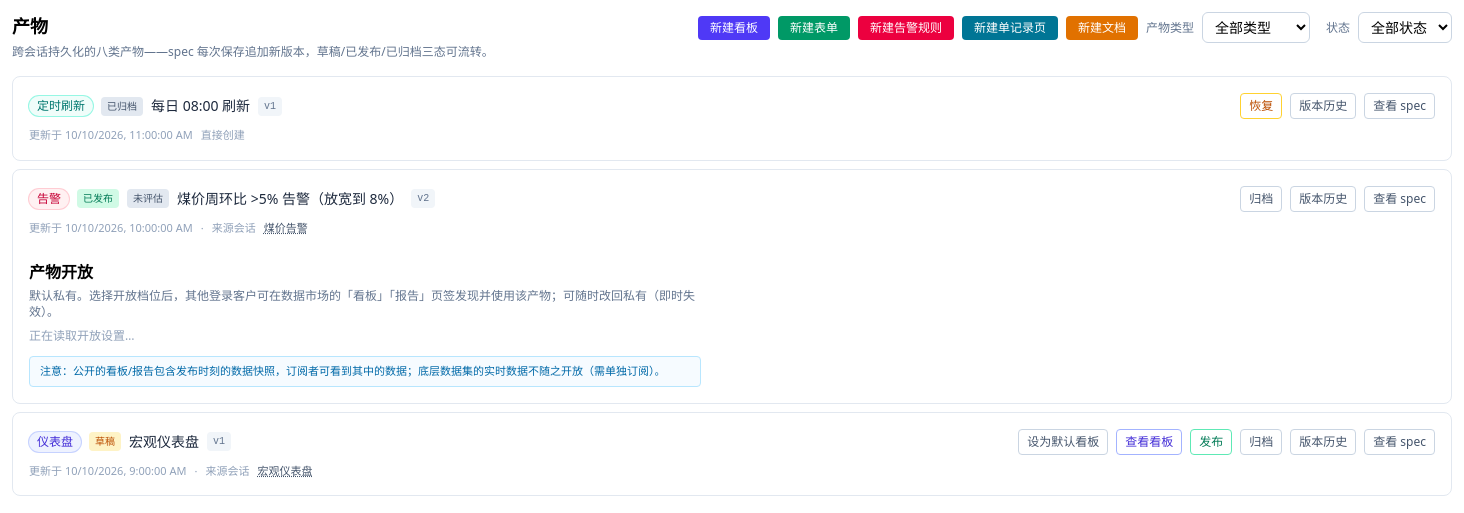
Test case: ArtifactsPage（产物列表：持久化 + 版本 + 状态机） › kind 与 status 筛选收窄列表
Expected: the number of list items with test id "artifact-item" is 3, [12,76,1452,160]; [12,168,1452,404]; [12,412,1452,496]
Select "仪表盘" in the dropdown with test id "artifact-kind-filter" at (1256, 28), box [1202,12,1310,43]
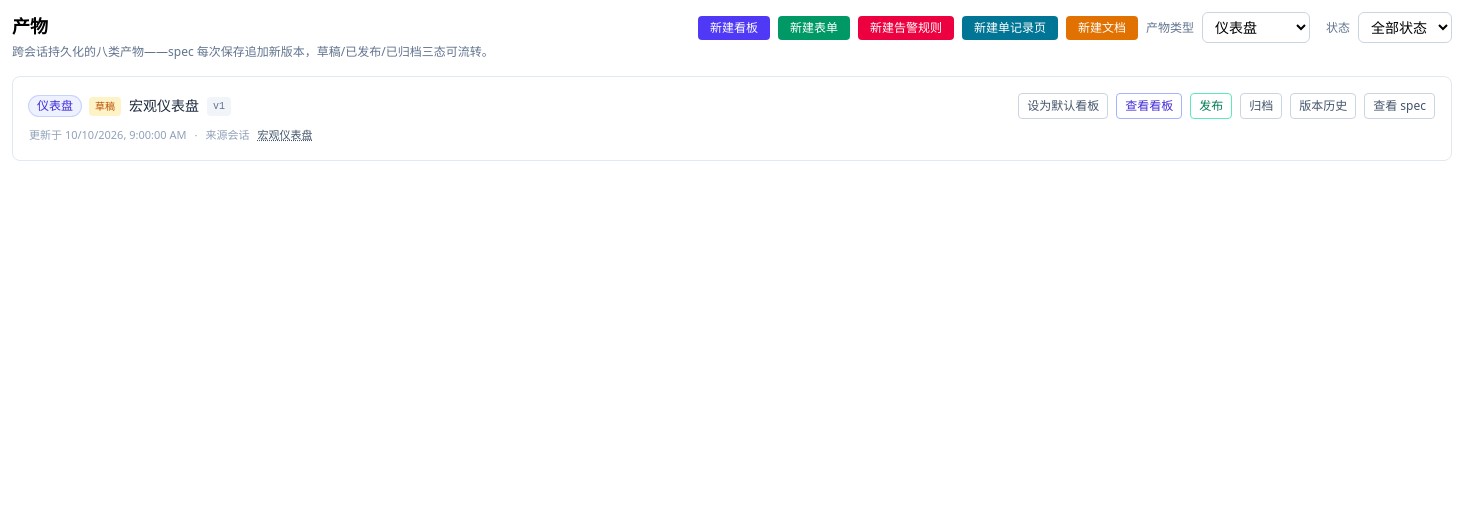
Now the number of list items with test id "artifact-item" is 1, box [12,76,1452,160]
Select "全部类型" in the dropdown with test id "artifact-kind-filter" at (1256, 28), box [1202,12,1310,43]
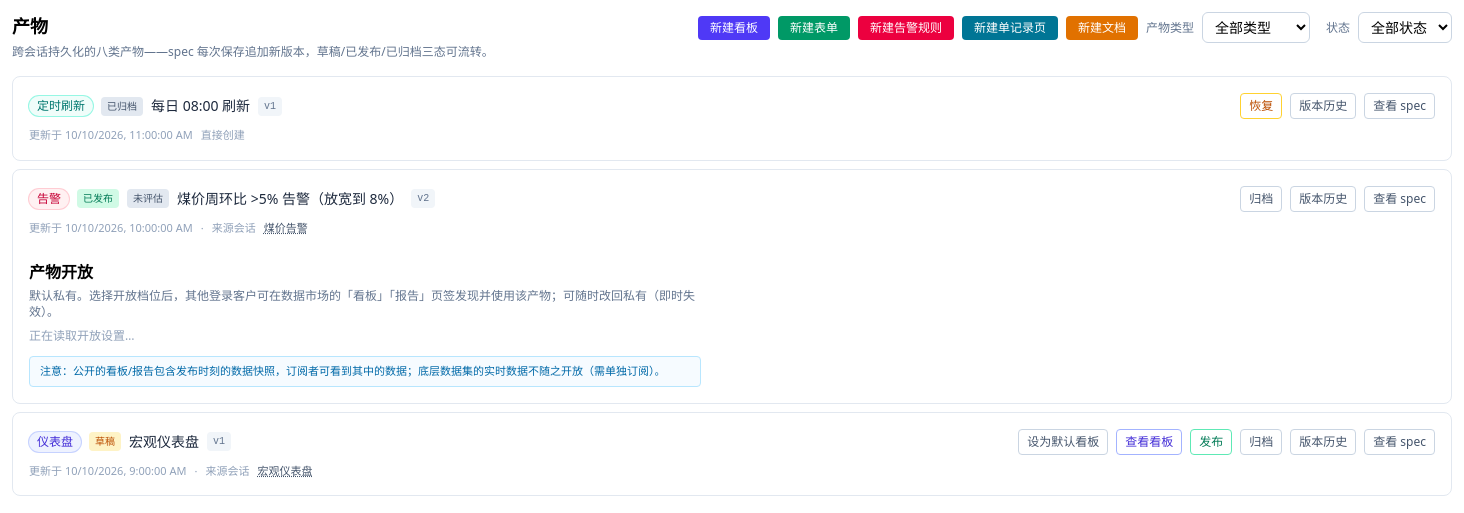
Select "已归档" in the dropdown with test id "artifact-status-filter" at (1405, 28), box [1358,12,1452,43]
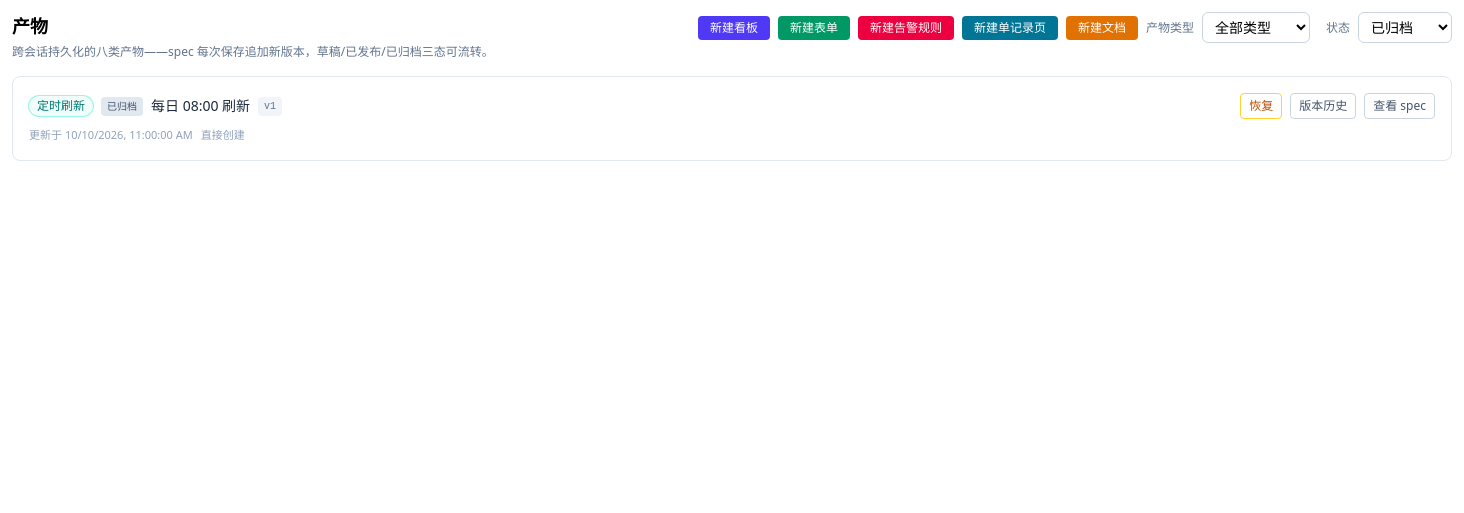
Now the number of list items with test id "artifact-item" is 1, box [12,76,1452,160]
